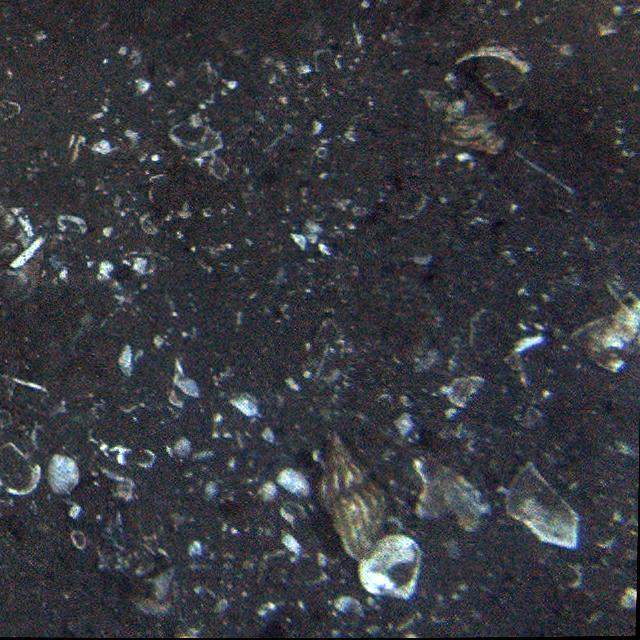whelk: (314, 432, 392, 558)
